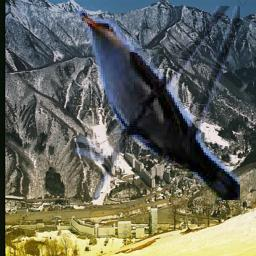Cuckoo: (76, 6, 241, 200)
